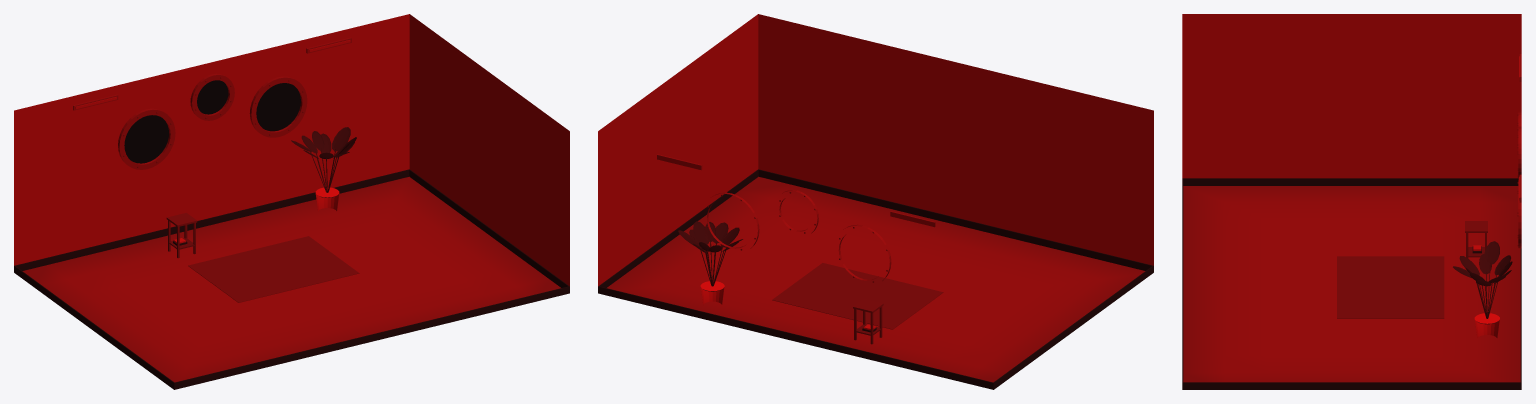
The model's file is room_space.glb.
3 views of the same model, side by side, from view 1: azimuth 30°, elevation 25°; view 2: azimuth 150°, elevation 25°; view 3: azimuth 270°, elevation 25° (orthographic). The views are drawn at different scales.
Parts seen in each view (by area): view 1: Shell, CenterRug, CenterPortR, CenterPortL, RightPlant, CenterPortC, LeftTable; view 2: Shell, CenterRug, RightPlant, LeftTable; view 3: Shell, CenterRug, RightPlant, LeftTable.
Boxes of the visible parts, x1,y1,x2,y2 form: Shell: (14, 14, 569, 389); CenterRug: (188, 236, 359, 302); CenterPortR: (249, 76, 307, 137); CenterPortL: (118, 108, 175, 169); RightPlant: (291, 127, 356, 210); CenterPortC: (190, 73, 234, 120); LeftTable: (166, 213, 197, 258); Shell: (598, 14, 1153, 389); CenterRug: (772, 263, 943, 329); RightPlant: (678, 221, 742, 305); LeftTable: (853, 299, 883, 344); Shell: (1182, 14, 1521, 389); CenterRug: (1337, 256, 1444, 318); RightPlant: (1453, 241, 1512, 337); LeftTable: (1465, 221, 1487, 258).
Bounding box in the file's own units: 720 × 282 × 505.
